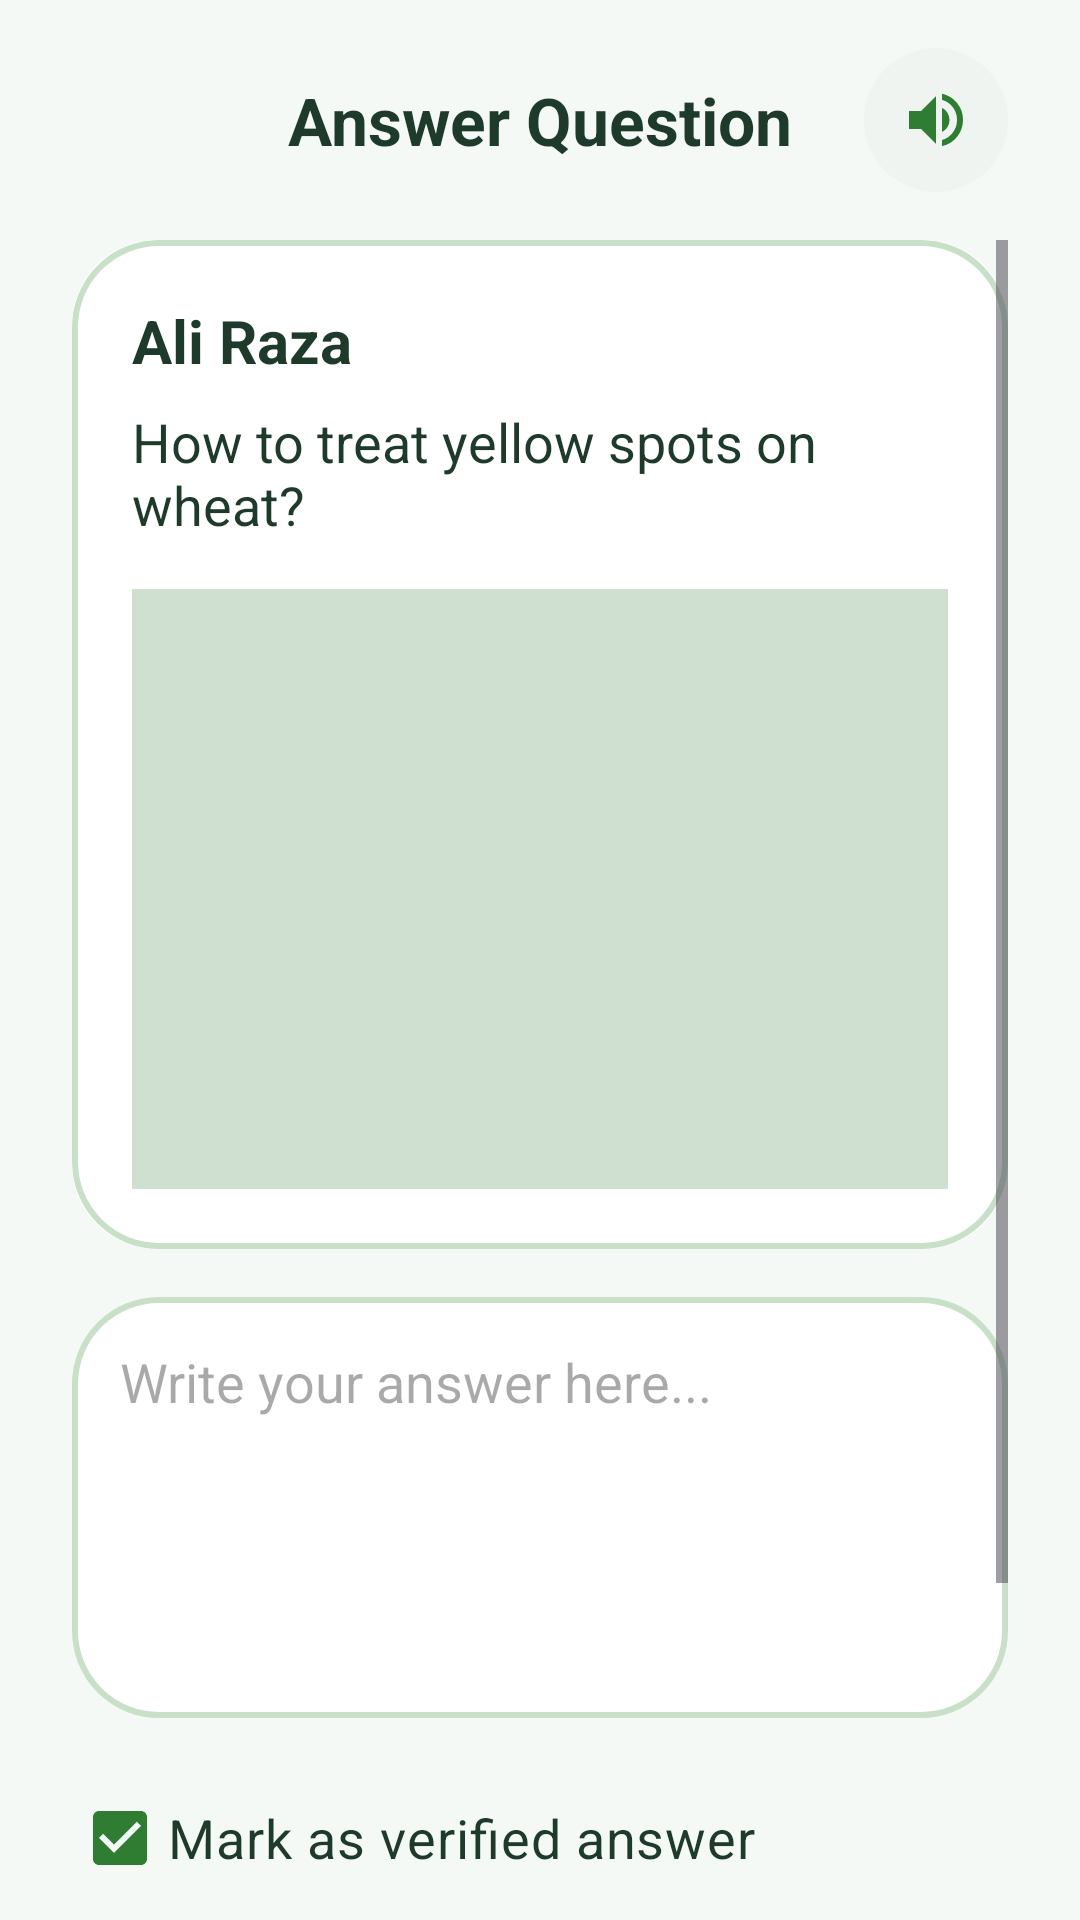

Icon click points for this 1080x1920 phone screenshot, format (x=x, y=y):
volume up: (x=936, y=119)
